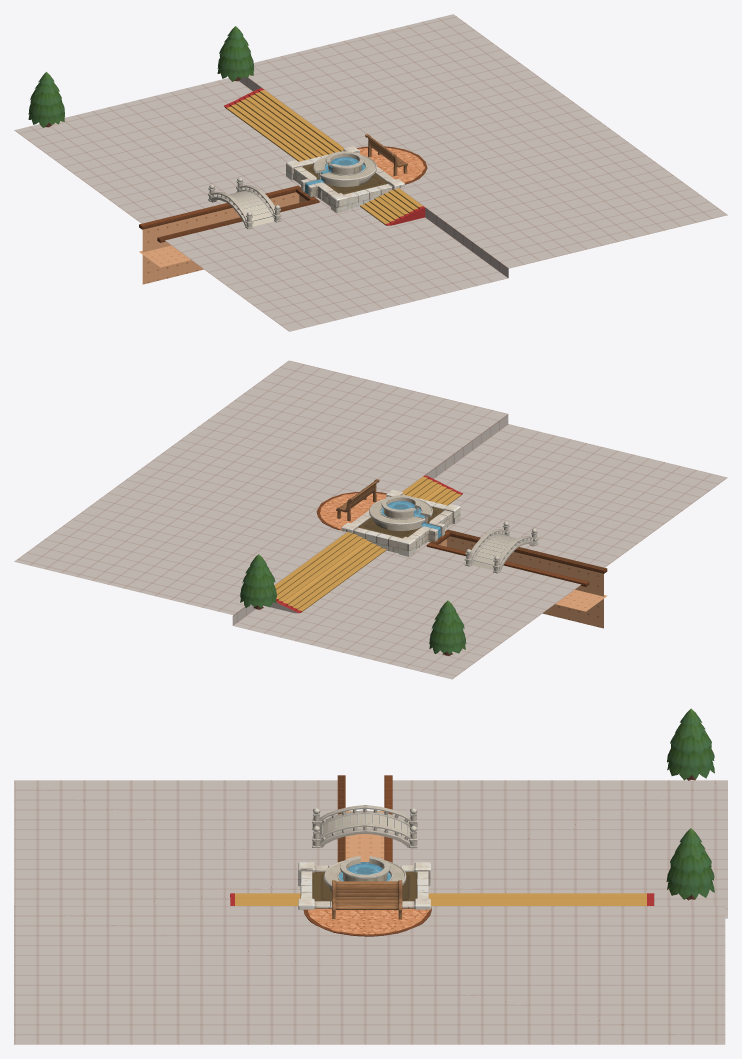
The model's file is mall-slice.glb.
The picture shows the model from 3 angles, top to bottom: view 1: azimuth 30°, elevation 25°; view 2: azimuth 150°, elevation 25°; view 3: azimuth 270°, elevation 25°; orthographic projection. The views are drawn at different scales.
Parts seen in each view (by area): view 1: sm_mainfloor, SM_fountainBox, sm_fountainghose, SM_bridge2, sm_tree_a2, sm_tree_a, SM_fountaindirt, SM_Bench; view 2: sm_mainfloor, SM_fountainBox, sm_fountainghose, SM_bridge2, sm_tree_a2, sm_tree_a, SM_Bench, SM_fountaindirt; view 3: sm_mainfloor, SM_bridge2, sm_tree_a, sm_tree_a2, SM_Bench, SM_fountainBox, sm_fountainghose, SM_fountaindirt.
Part boxes in pixels (<box>): sm_mainfloor: <box>14,14,727,331</box>; SM_fountainBox: <box>286,146,404,212</box>; sm_fountainghose: <box>304,151,376,194</box>; SM_bridge2: <box>208,177,281,229</box>; sm_tree_a2: <box>28,72,64,127</box>; sm_tree_a: <box>217,26,253,81</box>; SM_fountaindirt: <box>302,163,388,194</box>; SM_Bench: <box>365,134,408,176</box>; sm_mainfloor: <box>14,360,727,679</box>; SM_fountainBox: <box>341,490,460,556</box>; sm_fountainghose: <box>369,495,441,538</box>; SM_bridge2: <box>464,521,538,573</box>; sm_tree_a2: <box>429,600,466,655</box>; sm_tree_a: <box>240,554,276,609</box>; SM_Bench: <box>336,479,379,521</box>; SM_fountaindirt: <box>358,507,443,538</box>; sm_mainfloor: <box>14,775,727,1044</box>; SM_bridge2: <box>312,805,417,848</box>; sm_tree_a: <box>666,828,714,900</box>; sm_tree_a2: <box>667,708,714,780</box>; SM_Bench: <box>332,880,402,919</box>; SM_fountainBox: <box>298,862,430,909</box>; sm_fountainghose: <box>323,856,406,891</box>; SM_fountaindirt: <box>312,872,417,901</box>.
Bounding box in the file's own units: 24.44 × 6.45 × 26.34.
11 materials, 11 textured.
